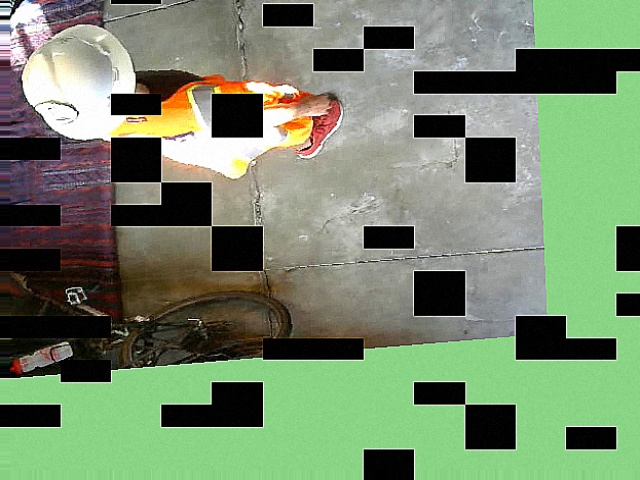two: (35, 99, 77, 126)
